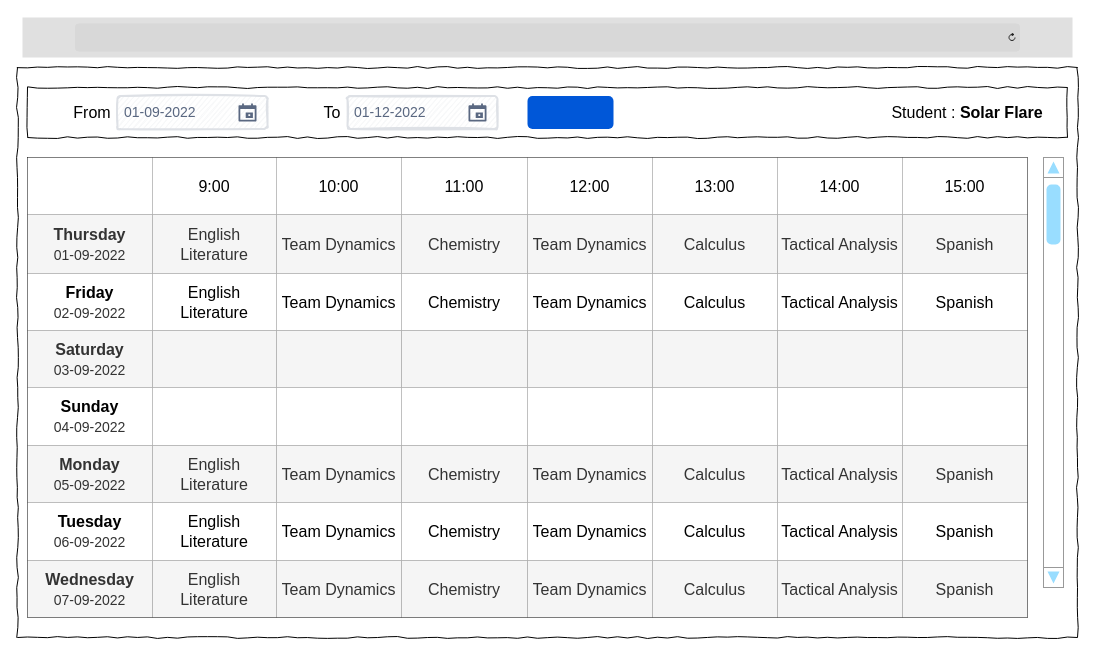
The diagram is 1095 pixels wide and 655 high, and some of its shapes have lost their labels. Here are the shapes that lost their labels. From the top down, the centre of each, then its label:
At (x=547, y=37): "fourthwallacademy.com/Student/Schedule/1".
At (x=570, y=112): "Apply".
